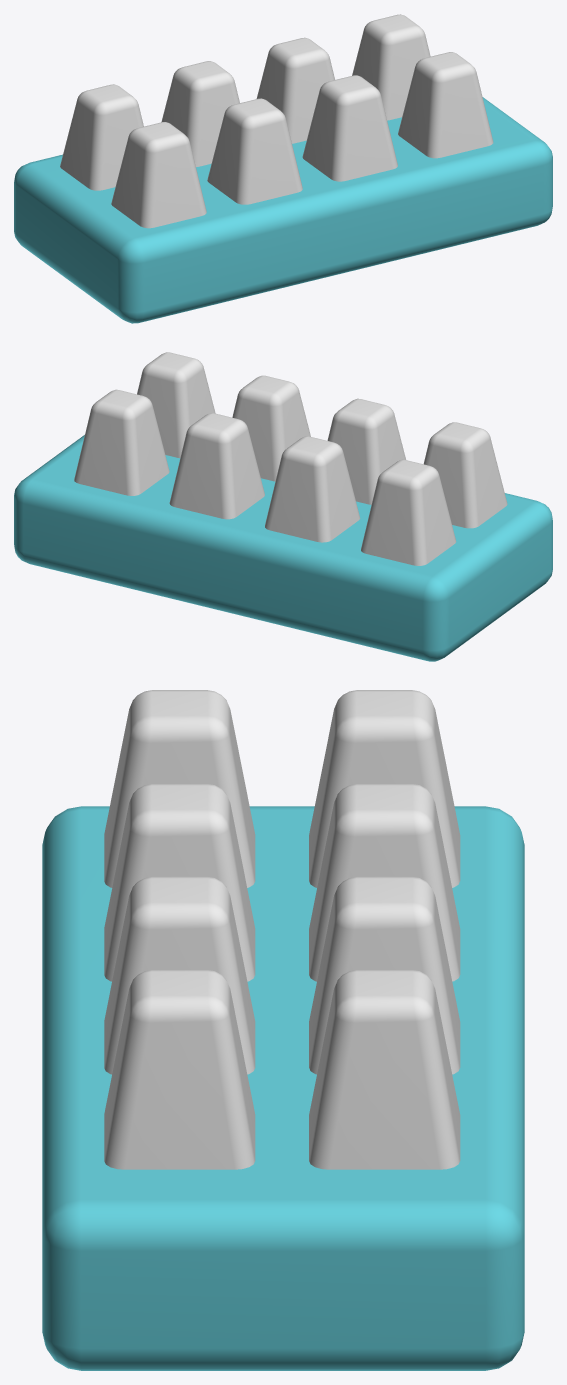
The model's file is Tile4.fbx.
The picture shows the model from 3 angles, top to bottom: view 1: azimuth 30°, elevation 25°; view 2: azimuth 150°, elevation 25°; view 3: azimuth 270°, elevation 25°; orthographic projection. The views are drawn at different scales.
Visible parts, largest first — view 1: m4; view 2: m4; view 3: m4.
Part boxes in pixels (x1=…): m4: x1=14, y1=14, x2=552, y2=323; m4: x1=14, y1=352, x2=552, y2=661; m4: x1=42, y1=690, x2=524, y2=1370.
Size of the model in its own units: 12.4 by 4.4 by 5.98.
